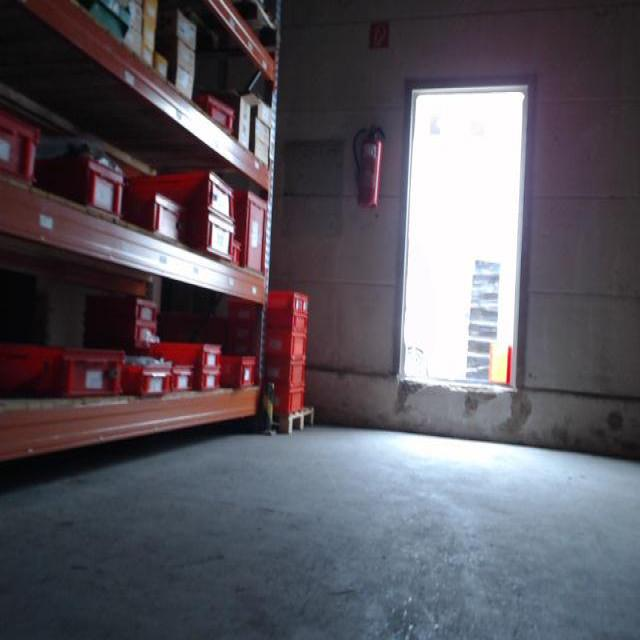pallet: (262, 398, 320, 439)
small_load_carrier: (6, 339, 127, 398), (33, 151, 132, 216), (126, 166, 235, 217), (232, 188, 268, 280), (135, 193, 192, 246), (2, 110, 43, 183), (116, 352, 172, 405), (186, 91, 239, 139), (153, 335, 227, 368), (225, 288, 308, 315), (96, 296, 165, 323), (258, 389, 314, 419), (189, 220, 237, 254), (227, 353, 261, 398), (258, 359, 307, 389), (258, 332, 307, 357), (118, 323, 165, 348), (260, 315, 309, 332), (172, 365, 195, 395), (194, 369, 226, 390)
